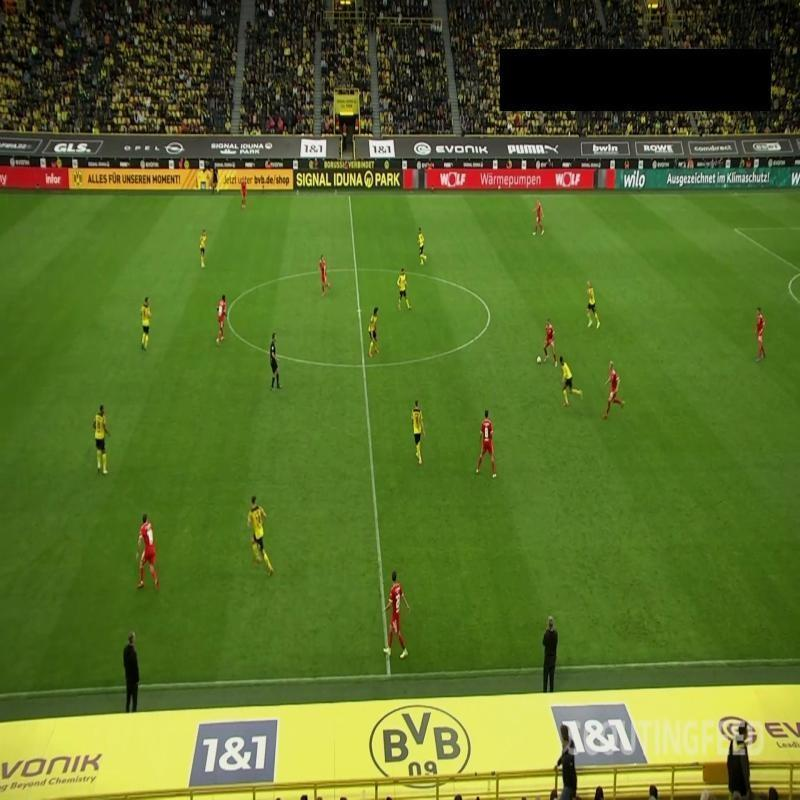13: (342, 188, 356, 202)
14: (348, 262, 364, 278)
15: (356, 358, 372, 374)
16: (369, 658, 408, 690), (446, 125, 460, 139)
9: (729, 222, 743, 236)
c: (477, 303, 501, 326), (216, 304, 238, 328)
